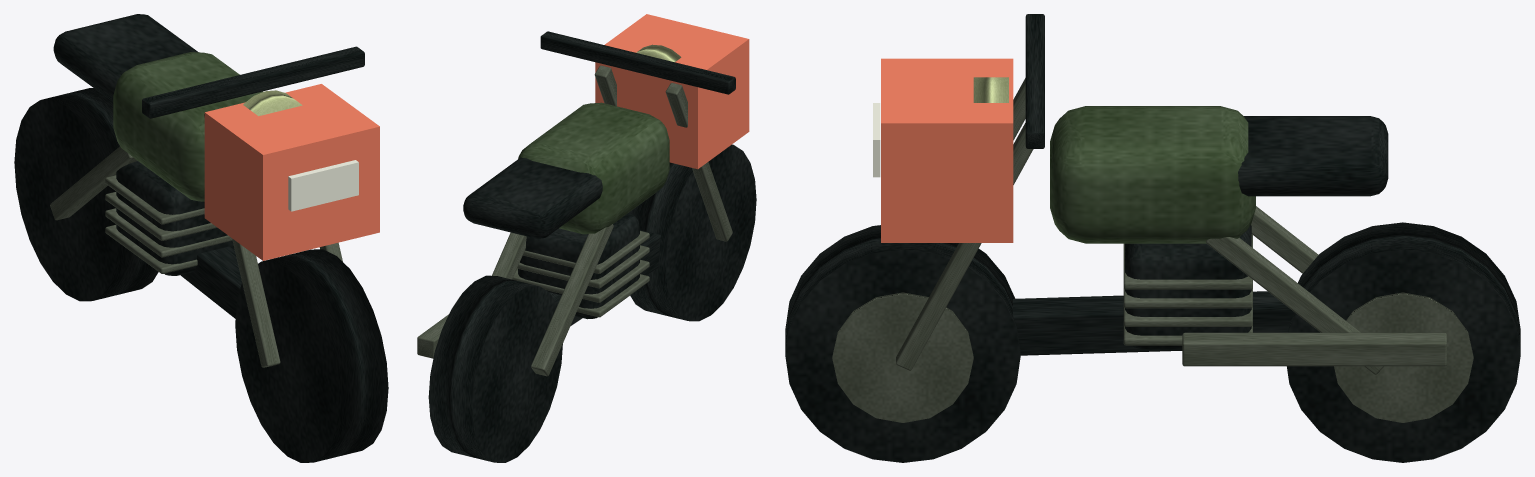
File: moto-rally.glb
The picture shows the model from 3 angles, left to right: view 1: azimuth 30°, elevation 25°; view 2: azimuth 150°, elevation 25°; view 3: azimuth 270°, elevation 25°; orthographic projection. The views are drawn at different scales.
Visible parts, largest first — view 1: Rubber tire, Rally front fairing, Rubber tire.001, Fuel tank, Saddle, Handlebar, Engine, Rally headlight, Front fork, Chassis, Rear suspension, Cooling fin.001 (+4 smaller); view 2: Rubber tire.001, Rubber tire, Rally front fairing, Fuel tank, Saddle, Engine, Handlebar, Rear suspension, Front fork, Rear suspension.001, Cooling fin.002, Cooling fin.001 (+6 smaller); view 3: Rubber tire, Rubber tire.001, Fuel tank, Rally front fairing, Wheel rim, Saddle, Wheel rim.001, Exhaust, Chassis, Engine, Rear suspension.001, Front fork.001 (+6 smaller).
Boxes of the visible parts, left/top/right/bottom form: Rubber tire: left=235, top=249, right=388, bottom=462; Rally front fairing: left=204, top=84, right=379, bottom=260; Rubber tire.001: left=14, top=88, right=158, bottom=301; Fuel tank: left=113, top=52, right=262, bottom=201; Saddle: left=53, top=14, right=198, bottom=101; Handlebar: left=142, top=46, right=364, bottom=118; Engine: left=116, top=161, right=234, bottom=275; Rally headlight: left=288, top=160, right=358, bottom=211; Front fork: left=204, top=114, right=280, bottom=367; Chassis: left=180, top=246, right=241, bottom=318; Rear suspension: left=50, top=146, right=137, bottom=220; Cooling fin.001: left=105, top=208, right=232, bottom=257; Rubber tire.001: left=428, top=275, right=562, bottom=462; Rubber tire: left=629, top=144, right=756, bottom=321; Rally front fairing: left=595, top=14, right=749, bottom=169; Fuel tank: left=518, top=102, right=669, bottom=234; Saddle: left=463, top=157, right=602, bottom=238; Engine: left=518, top=213, right=639, bottom=319; Handlebar: left=540, top=31, right=735, bottom=94; Rear suspension: left=531, top=224, right=613, bottom=376; Front fork: left=665, top=83, right=732, bottom=241; Rear suspension.001: left=492, top=232, right=526, bottom=279; Cooling fin.002: left=517, top=245, right=649, bottom=288; Cooling fin.001: left=512, top=259, right=649, bottom=302; Rubber tire: left=785, top=225, right=1020, bottom=462; Rubber tire.001: left=1287, top=222, right=1520, bottom=462; Fuel tank: left=1050, top=106, right=1255, bottom=243; Rally front fairing: left=881, top=58, right=1013, bottom=242; Wheel rim: left=832, top=292, right=973, bottom=422; Saddle: left=1238, top=116, right=1388, bottom=196; Wheel rim.001: left=1334, top=292, right=1473, bottom=422; Exhaust: left=1182, top=332, right=1446, bottom=366; Chassis: left=1013, top=291, right=1294, bottom=355; Engine: left=1125, top=225, right=1251, bottom=349; Rear suspension.001: left=1206, top=237, right=1383, bottom=374; Front fork.001: left=896, top=123, right=1033, bottom=370.
Size of the model in its own units: 0.96 by 1.41 by 2.5.
6 materials, 4 textured.
